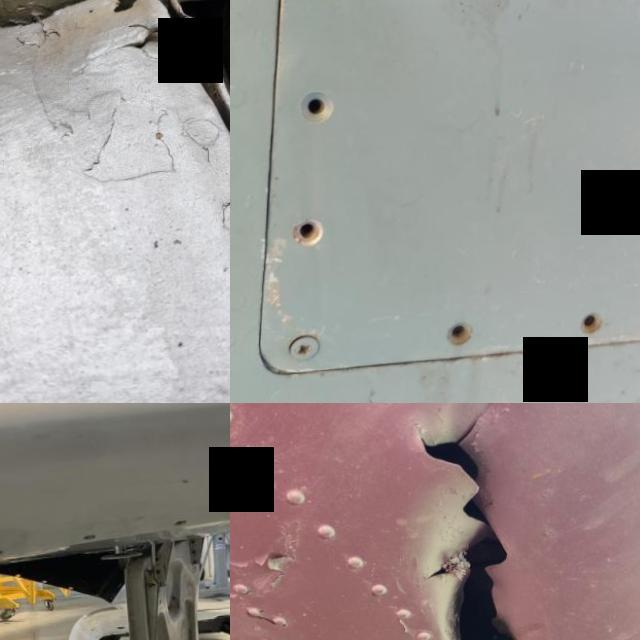Crack: (394, 403, 563, 640), (115, 14, 182, 66)
Missing_Fastener: (270, 202, 340, 270), (422, 308, 491, 366), (284, 79, 346, 142), (560, 297, 620, 353), (169, 520, 188, 531), (82, 534, 101, 544), (0, 550, 4, 558)
